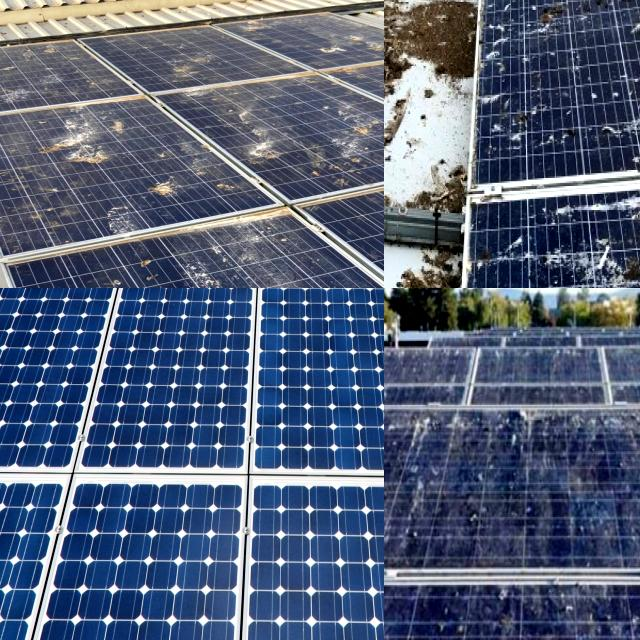bird: (30, 106, 128, 162), (384, 410, 428, 518), (228, 118, 306, 176), (486, 109, 571, 154), (162, 32, 224, 92), (384, 176, 439, 234), (462, 496, 529, 540), (601, 97, 640, 172), (580, 238, 640, 286), (116, 168, 187, 206), (290, 22, 384, 50), (531, 0, 583, 38), (384, 73, 431, 115), (602, 417, 640, 464), (384, 123, 424, 162), (603, 0, 640, 38), (510, 0, 563, 23), (384, 0, 421, 27), (524, 0, 567, 21), (629, 6, 640, 64), (384, 0, 401, 34), (384, 0, 399, 21), (384, 0, 396, 18), (384, 0, 395, 17)
crack: (53, 288, 295, 493), (42, 454, 271, 640), (72, 288, 264, 505), (223, 288, 384, 499), (220, 452, 384, 640), (0, 288, 175, 386), (126, 288, 276, 371), (243, 288, 384, 374)
